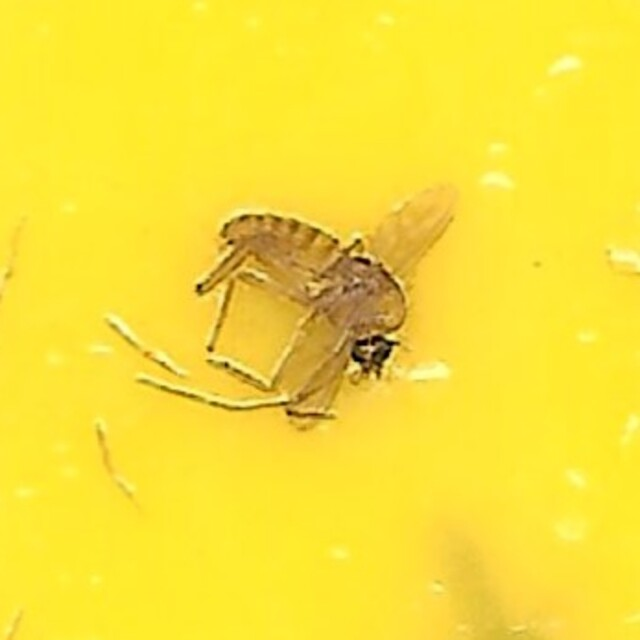Nematocera: (184, 199, 456, 441)
